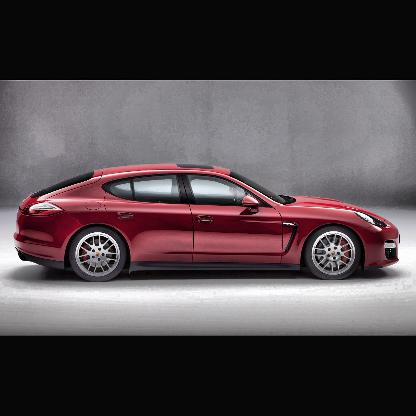Porsche Panamera Sedan 2012: (13, 163, 403, 284)
